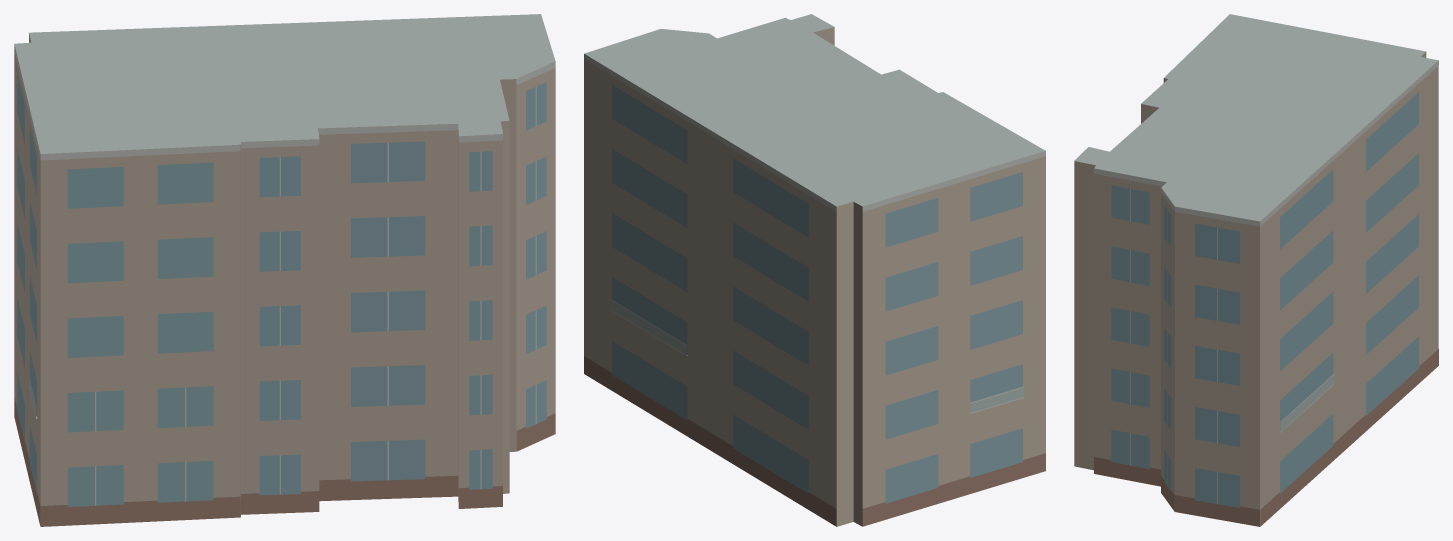
The model's file is survey-upis-32845335.glb.
3 renders of one model, left to right at view 1: azimuth 30°, elevation 25°; view 2: azimuth 150°, elevation 25°; view 3: azimuth 270°, elevation 25°, orthographic. The views are drawn at different scales.
Visible parts, largest first — view 1: survey-upis-32845335.tmp; view 2: survey-upis-32845335.tmp; view 3: survey-upis-32845335.tmp.
Part boxes in pixels (x1,y1,x2,y2): survey-upis-32845335.tmp: [14, 14, 555, 526]; survey-upis-32845335.tmp: [584, 14, 1045, 526]; survey-upis-32845335.tmp: [1074, 14, 1438, 526].
Size of the model in its own units: 20.84 by 14.3 by 15.48.
